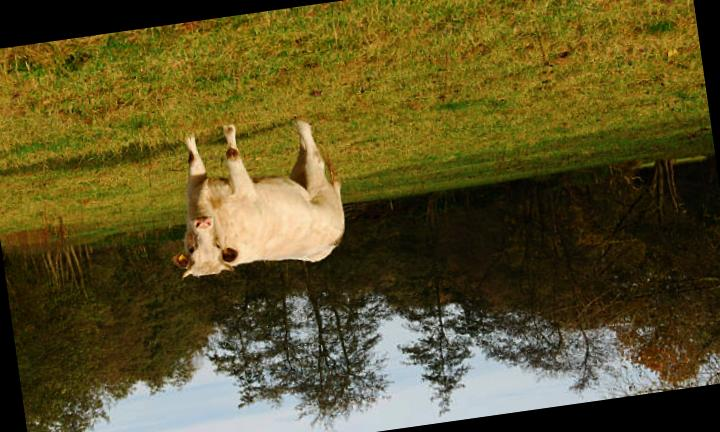Charolais: (172, 122, 344, 278)
